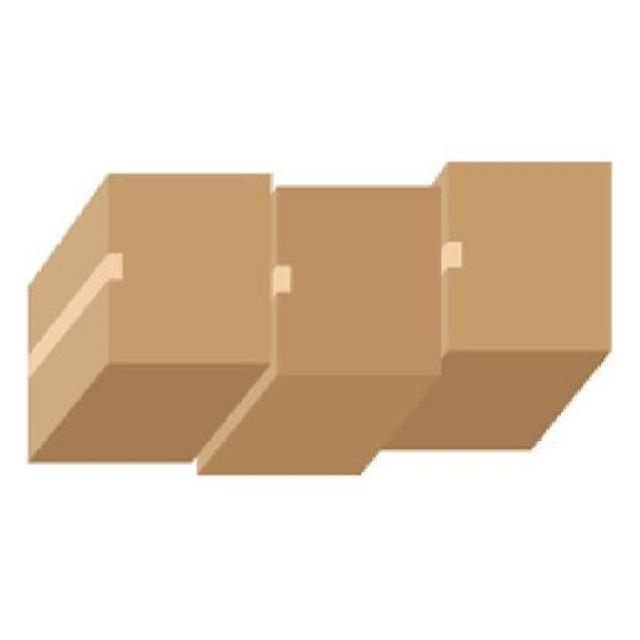normal: (20, 170, 266, 472), (269, 171, 445, 417)
